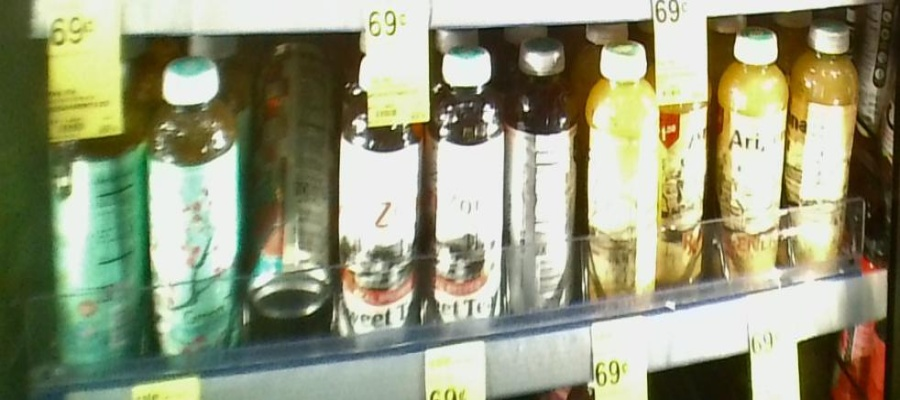bottle: (48, 56, 145, 385), (148, 56, 246, 376), (339, 56, 423, 346), (251, 47, 328, 354), (428, 40, 504, 338), (584, 37, 662, 317), (506, 31, 574, 319), (711, 30, 790, 277), (794, 22, 854, 277), (664, 35, 708, 301)
